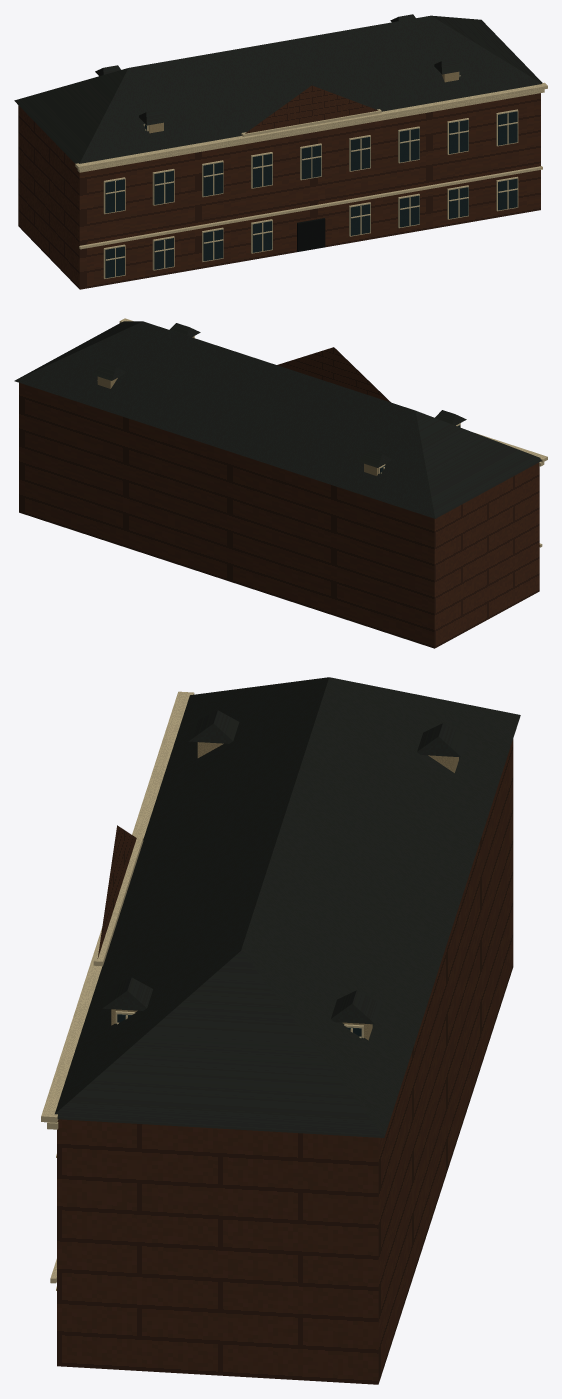
3 views of the same model, one above another, from view 1: azimuth 30°, elevation 25°; view 2: azimuth 150°, elevation 25°; view 3: azimuth 270°, elevation 25° (orthographic). The views are drawn at different scales.
Visible parts, largest first — view 1: sint-laurenshofje-0, sint-laurenshofje-1, sint-laurenshofje-2, sint-laurenshofje-3, sint-laurenshofje-4; view 2: sint-laurenshofje-0, sint-laurenshofje-1; view 3: sint-laurenshofje-1, sint-laurenshofje-0, sint-laurenshofje-2, sint-laurenshofje-5.
Part boxes in pixels (left/top/right/bottom): sint-laurenshofje-0: left=18, top=85, right=540, bottom=289; sint-laurenshofje-1: left=14, top=14, right=542, bottom=163; sint-laurenshofje-2: left=75, top=72, right=547, bottom=278; sint-laurenshofje-3: left=105, top=72, right=517, bottom=278; sint-laurenshofje-4: left=297, top=218, right=325, bottom=251; sint-laurenshofje-0: left=19, top=347, right=539, bottom=648; sint-laurenshofje-1: left=14, top=321, right=541, bottom=518; sint-laurenshofje-1: left=55, top=677, right=520, bottom=1137; sint-laurenshofje-0: left=57, top=739, right=513, bottom=1384; sint-laurenshofje-2: left=41, top=691, right=363, bottom=1290; sint-laurenshofje-5: left=111, top=742, right=458, bottom=1040.
Size of the model in its own units: 38.83 by 14.4 by 17.74.
Materials: 6 (6 with a texture image).
